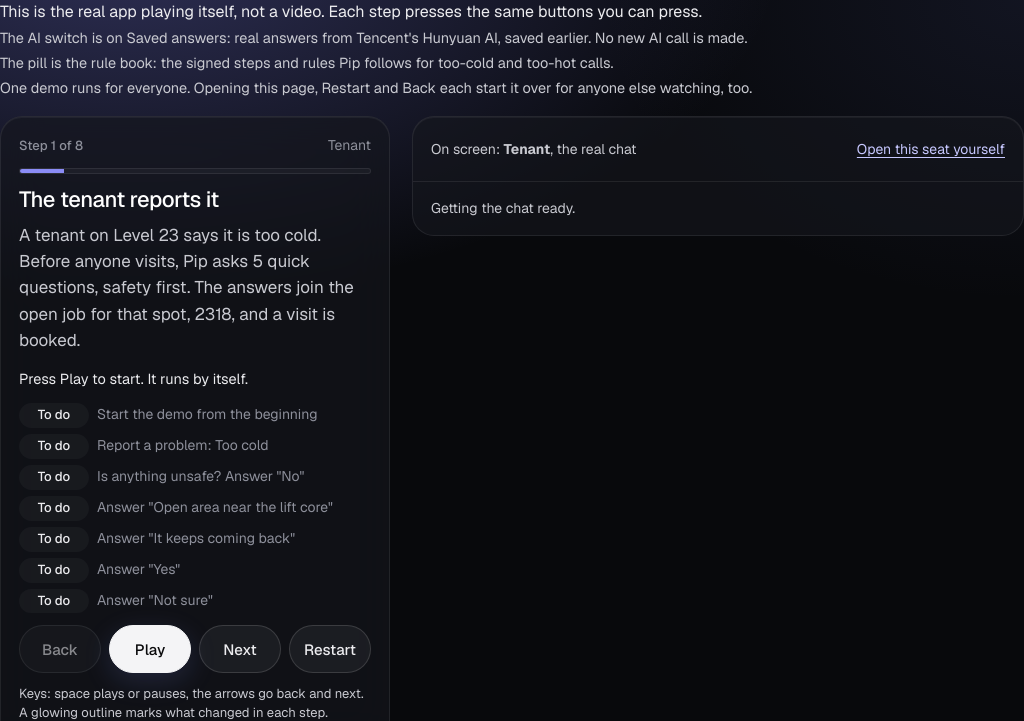
Test case: D2: Story mode plays the real app by itself › a press that never got through says so, in the same words a seat uses
Click the button "Next" at point(240, 649), box [199,625,281,673]
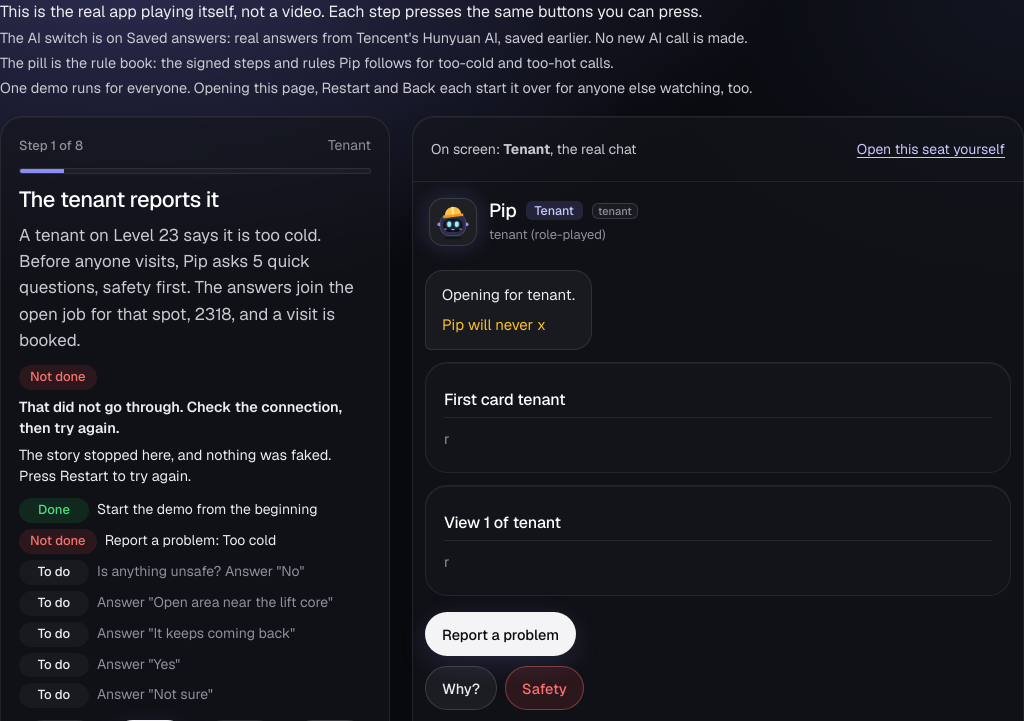
Expected: the text "That did not go through. Check the connection, then try again." is shown, [19,396,371,438]
